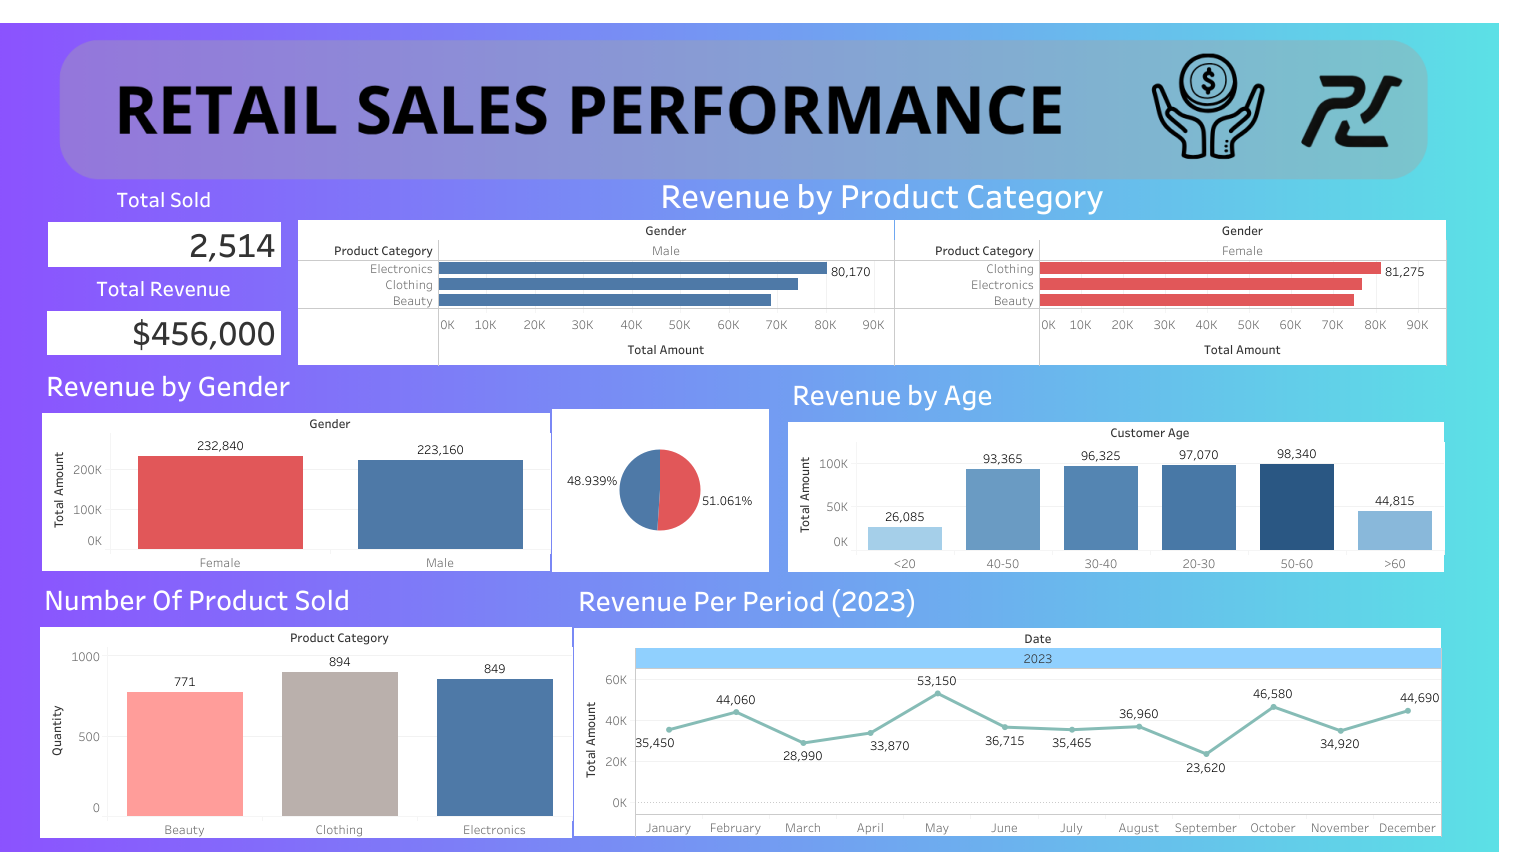

Layout of this report page (visuals, bound fields, positions):
{"tool":"tableau","page":{"name":"Dashboard","canvas":[1000,1000],"units":"permille","ordinal":0},"visuals":[{"type":"text","box":[262.7,203.5,630.2,48.7]},{"type":"worksheet","title":"Total Sold","mark":"Automatic","box":[31.6,210.2,151.6,101.8]},{"type":"worksheet","title":"Revenue by Product Category","mark":"Automatic","rows":["Product Category"],"cols":["Gender","Total Amount"],"box":[195.4,257.7,390.9,171.5]},{"type":"worksheet","title":"Revenue by Product Category (2)","mark":"Automatic","rows":["Product Category"],"cols":["Gender","Total Amount"],"box":[586.3,257.7,361,171.5]},{"type":"worksheet","title":"Total Revenue","mark":"Automatic","box":[31,314.2,152.1,100.7]},{"type":"worksheet","title":"Revenue by Gender","mark":"Automatic","rows":["Total Amount"],"cols":["Gender"],"box":[27.5,422.6,332.9,246.7]},{"type":"worksheet","title":"Revenue by Age","mark":"Automatic","rows":["Total Amount"],"cols":["Calculation_1180506074436730881"],"box":[516.1,432.5,429.5,237.8]},{"type":"worksheet","title":"Revenue by Gender (Pie)","mark":"Pie","box":[361.6,479,141,190.3]},{"type":"worksheet","title":"Number Of Product Sold","mark":"Bar","rows":["Quantity"],"cols":["Product Category"],"box":[26.3,672.6,348.2,309.7]},{"type":"worksheet","title":"Revenue Per Period (2023)","mark":"Automatic","rows":["Total Amount"],"cols":["Date","Date"],"box":[375.7,673.7,569.3,307.5]}]}

Visuals, with their boxes on the dashboard's canvas, which has no fixed pixel size, in thousandths of its width and height (x1, y1, x2, y2). These are canvas units, not pixel positions in the 1526x852 screenshot, which may show the page scaled, cropped or inside an application window:
text: [263, 204, 893, 252]
"Total Sold" worksheet: [32, 210, 183, 312]
"Revenue by Product Category" worksheet: [195, 258, 586, 429]
"Revenue by Product Category (2)" worksheet: [586, 258, 947, 429]
"Total Revenue" worksheet: [31, 314, 183, 415]
"Revenue by Gender" worksheet: [28, 423, 360, 669]
"Revenue by Age" worksheet: [516, 432, 946, 670]
"Revenue by Gender (Pie)" worksheet (Pie marks): [362, 479, 503, 669]
"Number Of Product Sold" worksheet (Bar marks): [26, 673, 374, 982]
"Revenue Per Period (2023)" worksheet: [376, 674, 945, 981]
